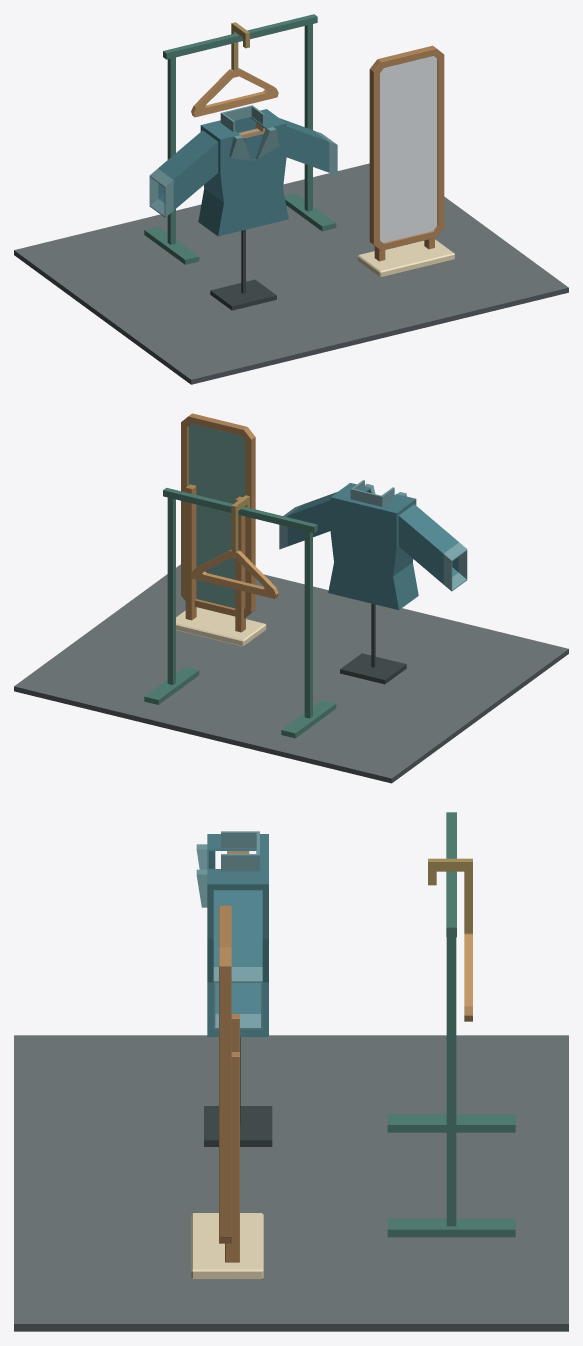
3 views of the same model, one above another, from view 1: azimuth 30°, elevation 25°; view 2: azimuth 150°, elevation 25°; view 3: azimuth 270°, elevation 25° (orthographic). The views are drawn at different scales.
Parts seen in each view (by area): view 1: SCENE_ONLY__FittingFloor, sample__ContinuousHollowLongSleeveBody, mirror__Mirror_panel, mirror__Frame_ring, mirror__Floor_base, hanger__OpenTriangularShoulderHanger, hanger__FullUpperGarmentRail, hanger__RightFullUpright, sample__CompleteGroundBase, hanger__LeftFullUpright, hanger__LeftGroundedCrossfoot, hanger__RightGroundedCrossfoot (+2 smaller); view 2: SCENE_ONLY__FittingFloor, sample__ContinuousHollowLongSleeveBody, mirror__Mirror_backing, mirror__Frame_ring, mirror__Floor_base, hanger__LeftFullUpright, hanger__RightFullUpright, hanger__OpenTriangularShoulderHanger, hanger__FullUpperGarmentRail, mirror__Fixed_rear_support_R, sample__CompleteGroundBase, mirror__Fixed_rear_support_L (+4 smaller); view 3: SCENE_ONLY__FittingFloor, sample__ContinuousHollowLongSleeveBody, mirror__Frame_ring, mirror__Floor_base, hanger__RightFullUpright, hanger__RightGroundedCrossfoot, hanger__LeftGroundedCrossfoot, mirror__Fixed_rear_support_R, sample__CompleteGroundBase, sample__StandingRearCollar, hanger__ContinuousOpenSaddleHook, hanger__FullUpperGarmentRail (+1 smaller).
Part boxes in pixels (x1,y1,x2,y2): SCENE_ONLY__FittingFloor: (14, 163, 568, 384); sample__ContinuousHollowLongSleeveBody: (149, 109, 337, 236); mirror__Mirror_panel: (380, 56, 437, 242); mirror__Frame_ring: (369, 45, 444, 250); mirror__Floor_base: (357, 239, 454, 277); hanger__OpenTriangularShoulderHanger: (191, 68, 278, 117); hanger__FullUpperGarmentRail: (163, 14, 317, 59); hanger__RightFullUpright: (304, 24, 312, 211); sample__CompleteGroundBase: (210, 279, 276, 310); hanger__LeftFullUpright: (167, 57, 175, 244); hanger__LeftGroundedCrossfoot: (144, 226, 199, 264); hanger__RightGroundedCrossfoot: (284, 193, 336, 231); SCENE_ONLY__FittingFloor: (14, 564, 568, 783); sample__ContinuousHollowLongSleeveBody: (279, 483, 467, 610); mirror__Mirror_backing: (188, 423, 245, 608); mirror__Frame_ring: (181, 413, 255, 618); mirror__Floor_base: (176, 607, 266, 646); hanger__LeftFullUpright: (304, 531, 312, 718); hanger__RightFullUpright: (167, 497, 175, 684); hanger__OpenTriangularShoulderHanger: (191, 549, 278, 598); hanger__FullUpperGarmentRail: (163, 487, 317, 532); mirror__Fixed_rear_support_R: (185, 484, 196, 620); sample__CompleteGroundBase: (340, 653, 406, 684); mirror__Fixed_rear_support_L: (235, 496, 245, 632); SCENE_ONLY__FittingFloor: (14, 1035, 568, 1331); sample__ContinuousHollowLongSleeveBody: (207, 834, 268, 1036); mirror__Frame_ring: (219, 905, 231, 1243); mirror__Floor_base: (191, 1213, 263, 1279); hanger__RightFullUpright: (446, 937, 456, 1226); hanger__RightGroundedCrossfoot: (387, 1218, 515, 1237); hanger__LeftGroundedCrossfoot: (387, 1114, 515, 1132); mirror__Fixed_rear_support_R: (225, 1052, 239, 1262); sample__CompleteGroundBase: (204, 1106, 272, 1146); sample__StandingRearCollar: (221, 831, 259, 871); hanger__ContinuousOpenSaddleHook: (428, 858, 472, 933); hanger__FullUpperGarmentRail: (446, 812, 456, 937).
Bounding box in the file's own units: 3.2 × 1.72 × 2.6.
